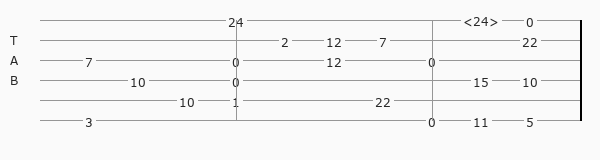0: (232, 54, 244, 67), (232, 74, 244, 87), (428, 114, 440, 127), (428, 54, 440, 67), (526, 14, 538, 27)
1: (232, 94, 244, 107)
10: (130, 74, 150, 87), (179, 94, 199, 107), (522, 74, 542, 87)
11: (473, 114, 493, 127)
12: (326, 54, 346, 67), (326, 34, 346, 47)
15: (473, 74, 493, 87)
2: (281, 34, 293, 47)
22: (375, 94, 395, 107), (522, 34, 542, 47)
24: (228, 14, 248, 27)
3: (85, 114, 97, 127)
5: (526, 114, 538, 127)
7: (85, 54, 97, 67), (379, 34, 391, 47)
harmonic: (463, 13, 503, 27)
